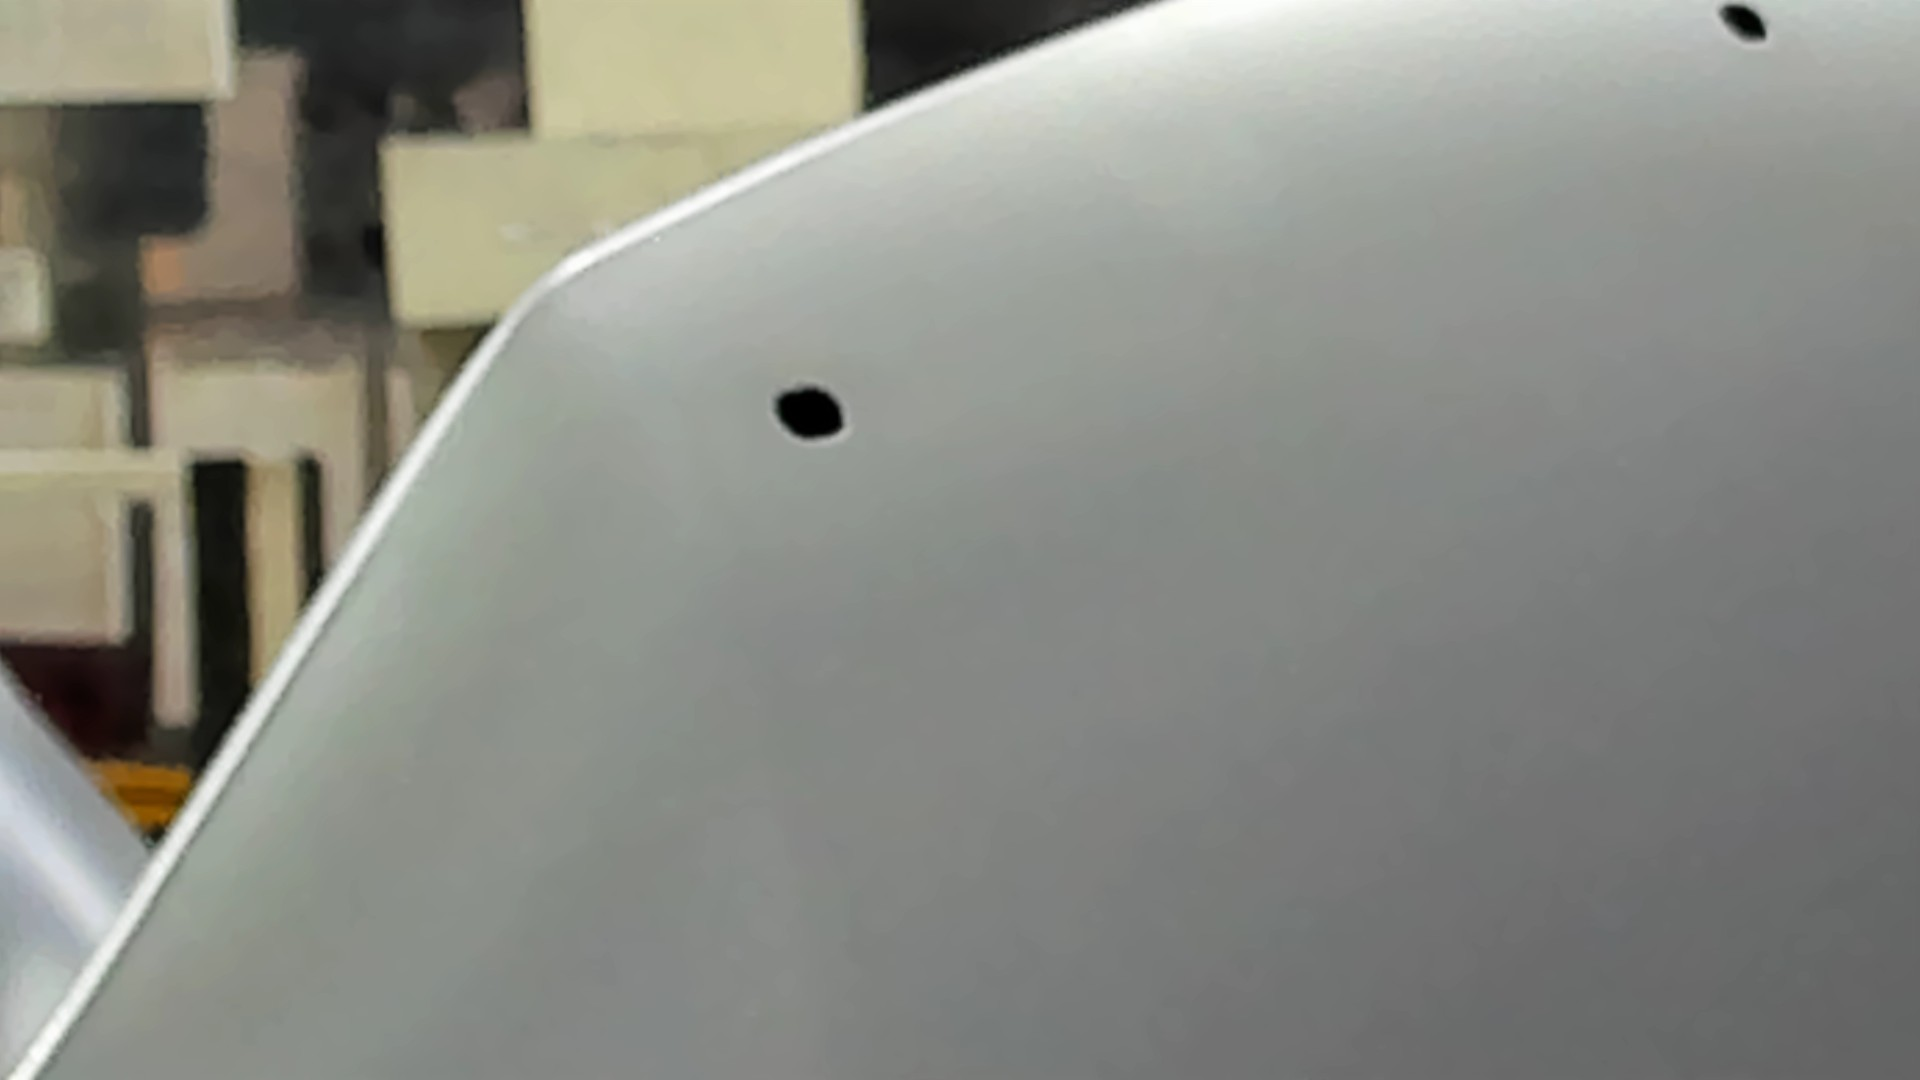amorfo: (765, 381, 851, 450), (1710, 1, 1774, 51)
capo: (996, 103, 1920, 1080)
